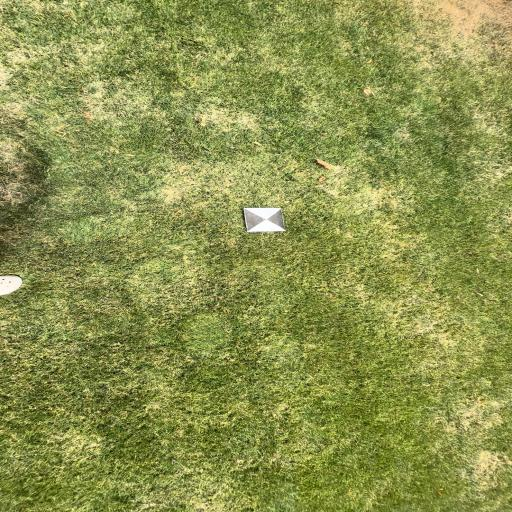target: (244, 207, 284, 232)
